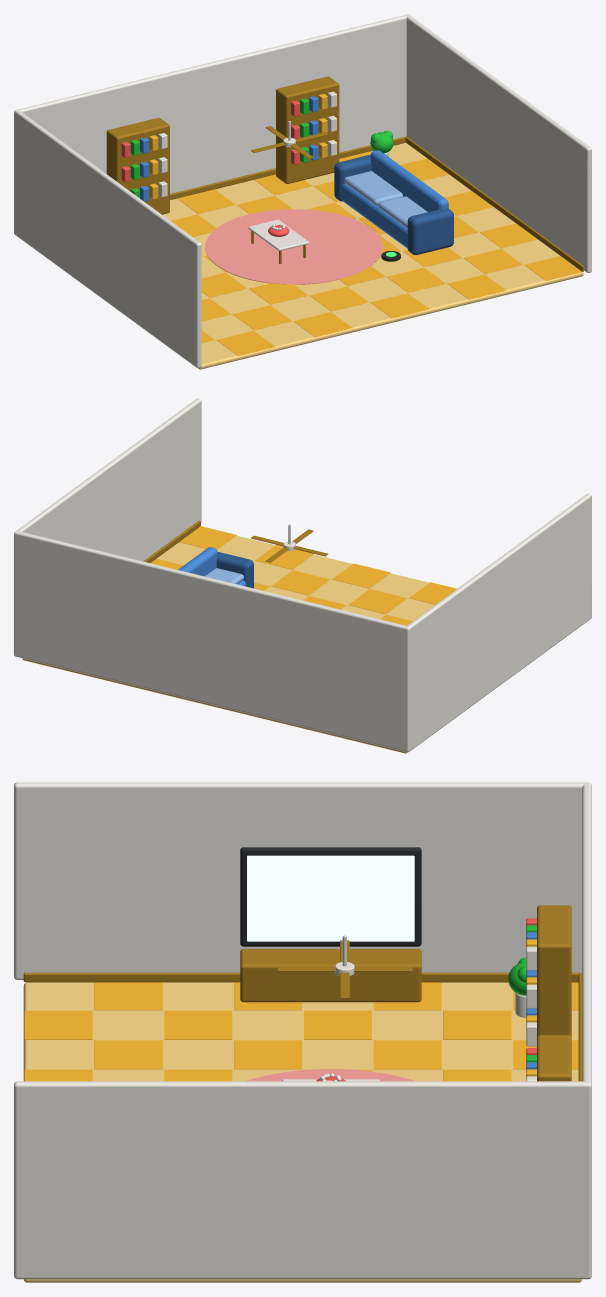
Rendered from cozy_living_room.glb.
The picture shows the model from 3 angles, top to bottom: view 1: azimuth 30°, elevation 25°; view 2: azimuth 150°, elevation 25°; view 3: azimuth 270°, elevation 25°; orthographic projection. The views are drawn at different scales.
Visible parts, largest first — view 1: Set, Flat_001, Flat_048, Flat_017, Flat_013, Flat_029, Flat_033, Flat_021, Flat_025, Flat_009, Flat_037, Flat_018 (+10 smaller); view 2: Set, Flat_001, Flat_029, Flat_021, Flat_025, Flat_041, Flat_033, Flat_017; view 3: Set, Flat_001, Glow, Flat_006, Flat_013, Flat_008, Flat_009, Flat_011, Flat_007, Flat_012, Flat_005, Flat_048 (+6 smaller).
Boxes of the visible parts, <box> form: Set: <box>14,14,591,368</box>; Flat_001: <box>162,143,583,369</box>; Flat_048: <box>205,209,382,284</box>; Flat_017: <box>293,312,352,337</box>; Flat_013: <box>233,305,291,330</box>; Flat_029: <box>387,267,445,292</box>; Flat_033: <box>447,274,506,299</box>; Flat_021: <box>310,286,368,311</box>; Flat_025: <box>370,293,429,318</box>; Flat_009: <box>216,331,275,355</box>; Flat_037: <box>464,249,522,273</box>; Flat_018: <box>177,189,235,213</box>; Set: <box>14,398,591,752</box>; Flat_001: <box>22,535,435,753</box>; Flat_029: <box>271,570,330,595</box>; Flat_021: <box>348,589,407,614</box>; Flat_025: <box>332,563,390,588</box>; Flat_041: <box>179,526,236,549</box>; Flat_033: <box>255,544,313,569</box>; Flat_017: <box>409,582,456,604</box>; Set: <box>14,782,591,1279</box>; Flat_001: <box>23,982,581,1282</box>; Glow: <box>247,855,414,941</box>; Flat_006: <box>443,1010,511,1039</box>; Flat_013: <box>94,1040,162,1069</box>; Flat_008: <box>164,1010,232,1039</box>; Flat_009: <box>24,1010,92,1039</box>; Flat_011: <box>373,1040,441,1069</box>; Flat_007: <box>304,1010,371,1039</box>; Flat_012: <box>234,1040,301,1069</box>; Flat_005: <box>94,982,162,1010</box>; Flat_048: <box>246,1069,415,1081</box>.
Size of the model in its own units: 10.28 by 3.22 by 8.28.
